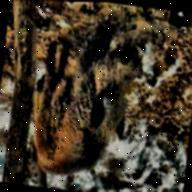boar: (2, 19, 160, 192)
